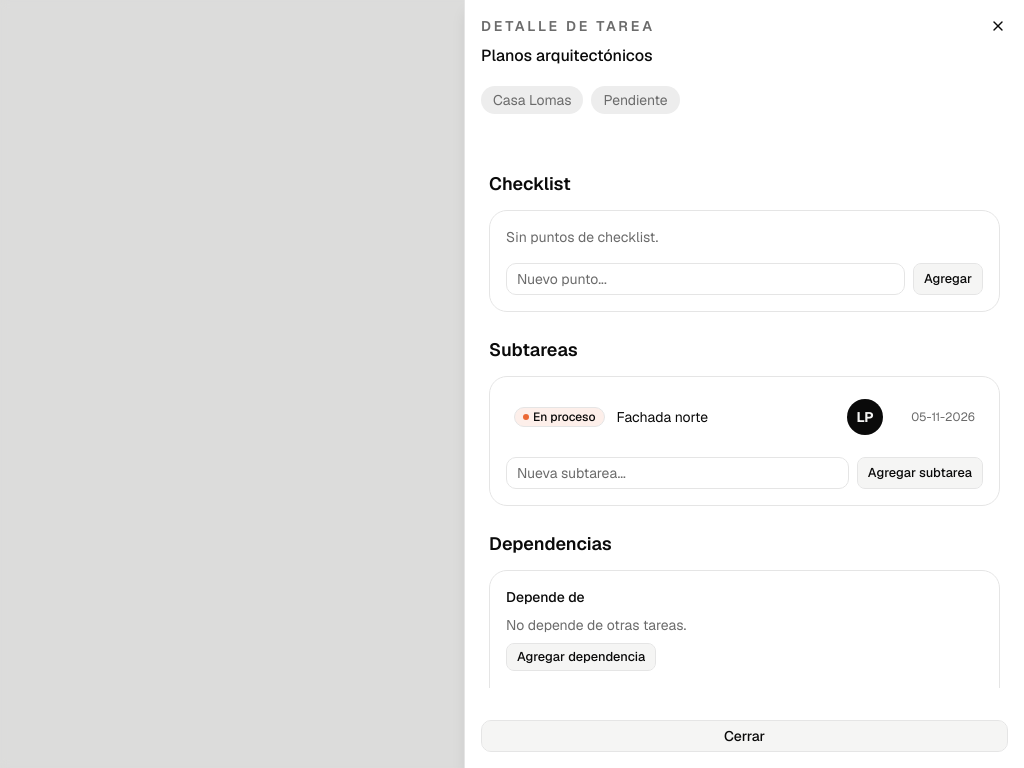
Test: TaskDrawer Subtareas › opens a child in the same drawer with a back link to the parent
(page scrolled)
Click the text "Fachada norte" at (662, 417), box x1=616 y1=408 x2=708 y2=426
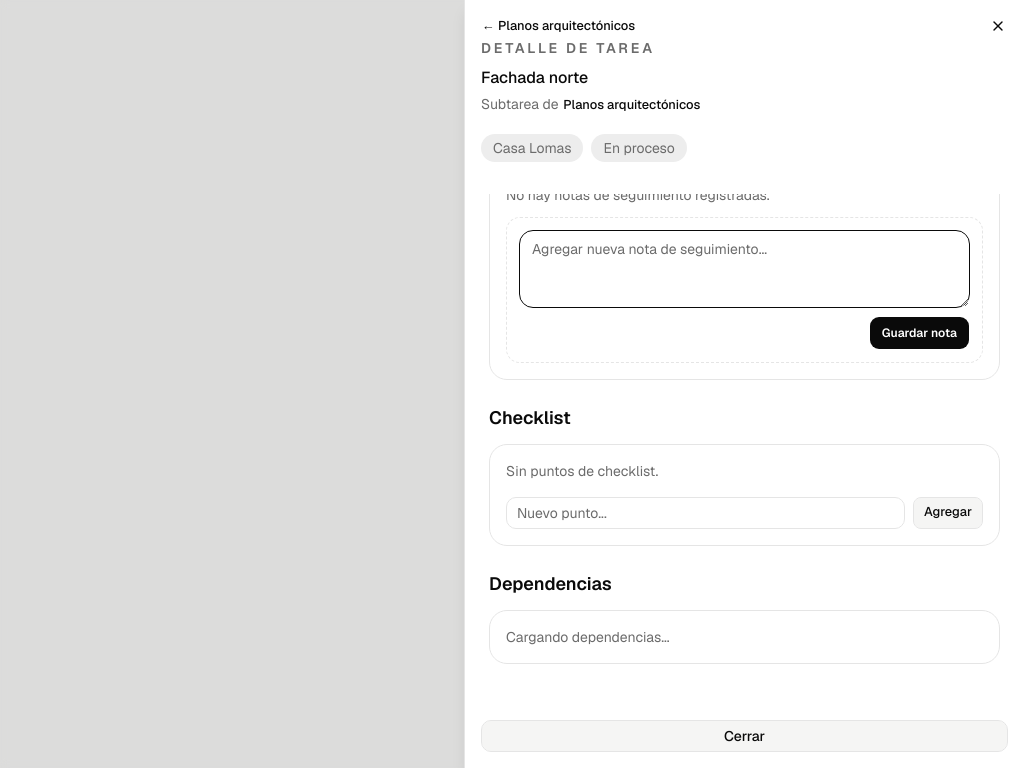
Expected: the button "← Planos arquitectónicos" is shown
Expected: the text "Subtarea de" is shown, x1=481 y1=95 x2=559 y2=113
Expected: the heading "Subtareas" is gone
Click the button "← Planos arquitectónicos" at (559, 26), box x1=481 y1=16 x2=636 y2=36
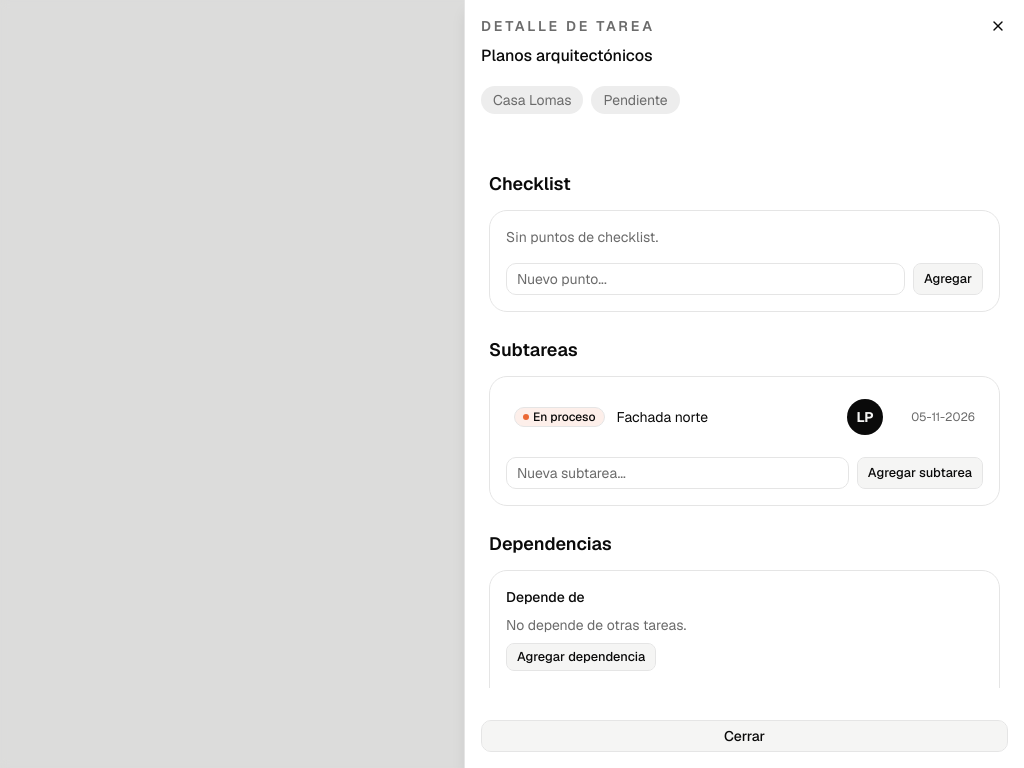
Expected: the heading "Subtareas" is shown, x1=489 y1=338 x2=578 y2=361
Expected: the button "← Planos arquitectónicos" is gone
